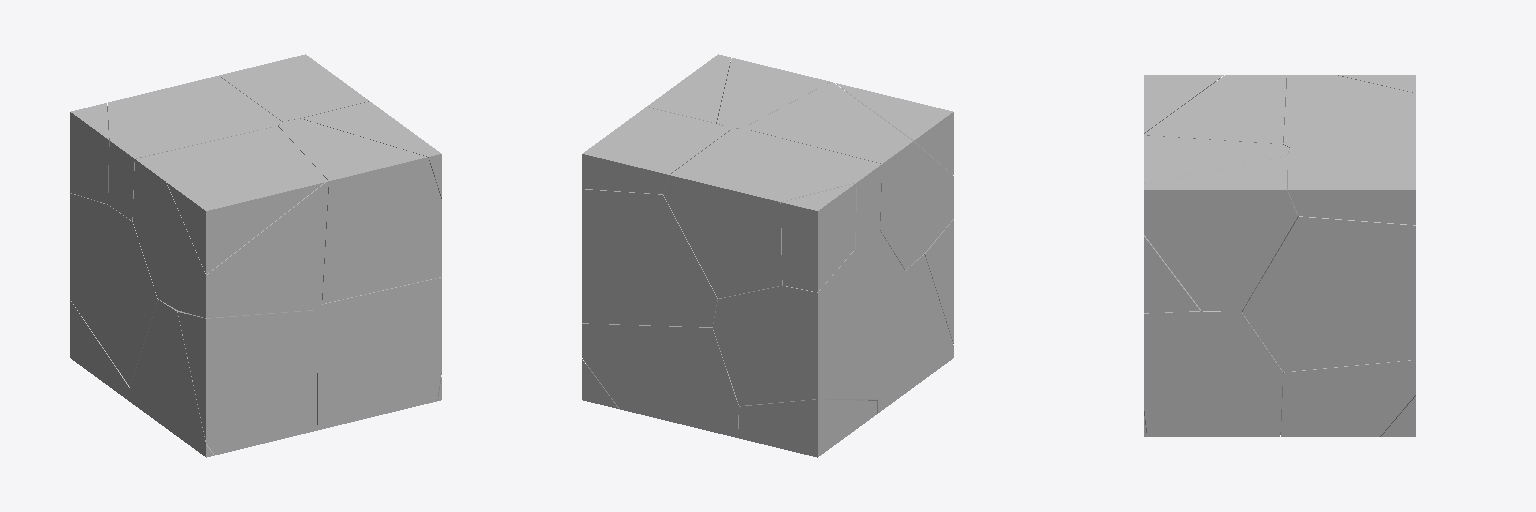
Rendered from box_fractured.obj.
3 renders of one model, left to right at view 1: azimuth 30°, elevation 25°; view 2: azimuth 150°, elevation 25°; view 3: azimuth 270°, elevation 25°, orthographic.
Visible parts, largest first — view 1: Box_cell.010, Box_cell.008, Box_cell.006, Box_cell.012, Box_cell.015, Box_cell.011, Box_cell.004, Box_cell.014, Box_cell.001, Box_cell.005, Box_cell, Box_cell.007; view 2: Box_cell.015, Box_cell.011, Box_cell.009, Box_cell.010, Box_cell.013, Box_cell.001, Box_cell.005, Box_cell.014, Box_cell.007, Box_cell.008, Box_cell.004, Box_cell (+2 smaller); view 3: Box_cell.009, Box_cell, Box_cell.012, Box_cell.001, Box_cell.013, Box_cell.011, Box_cell.010, Box_cell.008, Box_cell.004, Box_cell.005, Box_cell.003.
Boxes of the visible parts, x1,y1,x2,y2 form: Box_cell.010: [133, 126, 328, 317]; Box_cell.008: [278, 119, 441, 303]; Box_cell.006: [178, 310, 317, 454]; Box_cell.012: [317, 277, 441, 429]; Box_cell.015: [70, 193, 157, 386]; Box_cell.011: [107, 76, 281, 220]; Box_cell.004: [167, 182, 324, 274]; Box_cell.014: [130, 299, 214, 457]; Box_cell.001: [219, 54, 368, 121]; Box_cell.005: [70, 103, 108, 203]; Box_cell: [301, 101, 441, 198]; Box_cell.007: [70, 300, 129, 401]; Box_cell.015: [713, 230, 904, 405]; Box_cell.011: [663, 128, 881, 298]; Box_cell.009: [582, 189, 717, 326]; Box_cell.010: [744, 82, 953, 269]; Box_cell.013: [582, 323, 740, 437]; Box_cell.001: [582, 107, 730, 193]; Box_cell.005: [781, 183, 856, 291]; Box_cell.014: [865, 255, 953, 413]; Box_cell.007: [738, 399, 876, 457]; Box_cell.008: [716, 58, 829, 128]; Box_cell.004: [836, 83, 953, 174]; Box_cell: [647, 54, 730, 122]; Box_cell.009: [1242, 216, 1415, 371]; Box_cell: [1144, 156, 1297, 311]; Box_cell.012: [1144, 311, 1282, 436]; Box_cell.001: [1287, 148, 1415, 224]; Box_cell.013: [1280, 360, 1415, 436]; Box_cell.011: [1283, 75, 1415, 147]; Box_cell.010: [1144, 75, 1286, 143]; Box_cell.008: [1144, 135, 1289, 312]; Box_cell.004: [1144, 75, 1223, 133]; Box_cell.005: [1338, 75, 1415, 92]; Box_cell.003: [1381, 396, 1415, 436].
Size of the model in its own units: 1 by 1 by 1.